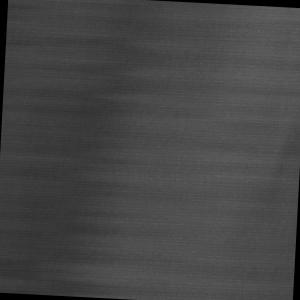Wrinkle: (1, 1, 160, 300), (229, 110, 300, 250)
